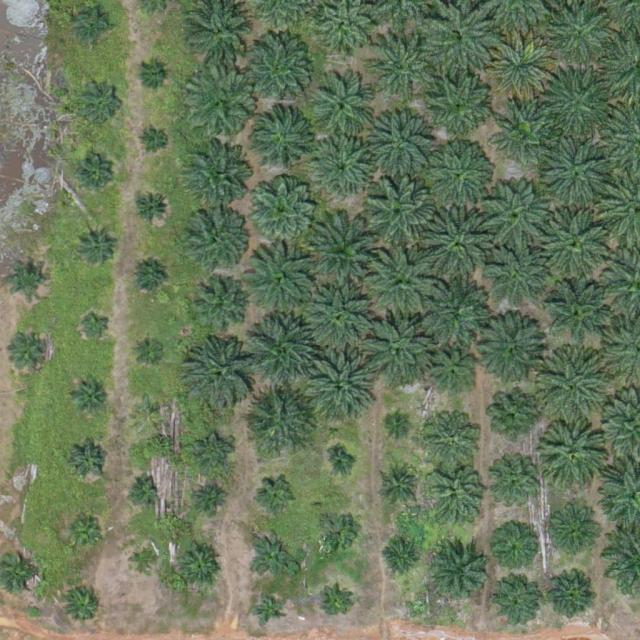Healthy: (308, 214, 386, 293), (181, 336, 259, 415), (535, 417, 606, 488), (304, 282, 375, 353), (422, 70, 493, 141), (475, 317, 545, 388), (361, 311, 431, 382), (248, 248, 318, 319), (243, 385, 313, 456), (541, 67, 611, 138), (484, 180, 555, 250), (243, 36, 313, 107), (247, 176, 317, 247), (182, 145, 252, 216), (187, 71, 257, 142), (537, 349, 607, 419), (424, 210, 494, 280), (415, 273, 485, 343), (368, 247, 438, 317), (303, 350, 373, 420), (249, 314, 319, 384), (541, 137, 611, 207), (540, 207, 610, 277), (425, 5, 495, 75), (367, 33, 437, 103), (365, 178, 435, 248), (370, 111, 433, 174), (546, 284, 608, 347), (427, 542, 489, 605), (429, 146, 491, 209), (313, 79, 375, 142), (314, 137, 376, 200), (186, 206, 248, 269), (254, 109, 316, 171), (497, 106, 552, 162), (489, 251, 544, 306), (424, 411, 479, 466), (429, 470, 484, 525), (193, 279, 248, 334), (545, 503, 599, 558), (550, 575, 597, 623), (492, 464, 539, 512), (427, 350, 474, 398), (494, 578, 541, 625)
Small: (491, 392, 538, 440), (79, 79, 126, 126), (177, 543, 224, 590), (249, 532, 296, 579), (132, 189, 172, 229), (8, 258, 47, 298), (77, 227, 116, 267), (69, 376, 109, 415), (69, 442, 109, 481), (194, 433, 233, 473), (492, 530, 532, 569), (382, 541, 422, 580), (131, 259, 170, 299), (15, 331, 54, 370), (76, 158, 115, 197), (76, 6, 115, 45), (65, 587, 104, 626), (259, 477, 298, 516), (317, 513, 356, 552), (65, 513, 104, 552), (321, 589, 352, 621), (198, 482, 229, 514), (254, 595, 285, 627), (135, 332, 166, 364), (134, 393, 165, 425), (128, 474, 159, 506), (81, 309, 112, 341), (138, 59, 169, 91), (385, 470, 416, 501), (130, 546, 161, 577), (140, 126, 171, 157), (389, 414, 413, 438), (330, 452, 353, 476)
Yellow: (486, 34, 557, 105)
